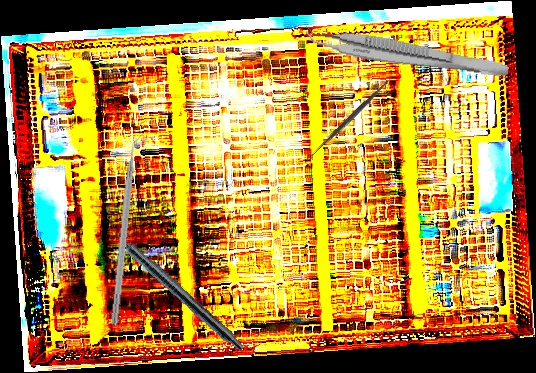Chopper: (110, 129, 149, 327)
Handpiece: (100, 218, 249, 354)
Spatula Surgical: (305, 72, 398, 163)
Tissue Forceps: (303, 22, 511, 80)
